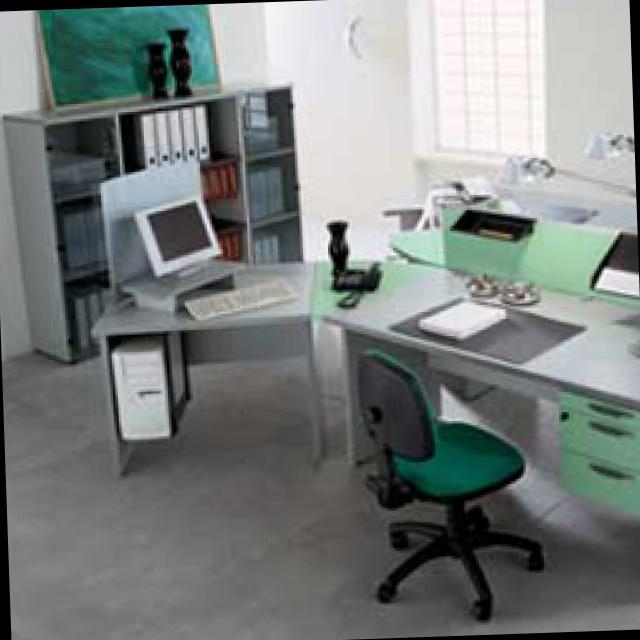2001: (424, 0, 549, 154)
book case: (423, 295, 507, 337)
bookcase crop: (10, 76, 305, 359)
books crop: (134, 104, 212, 171), (71, 283, 114, 346), (64, 205, 108, 266), (247, 162, 289, 220), (257, 227, 283, 260)
box contants: (452, 205, 539, 238)
chair -occluded-: (359, 348, 551, 615)
computer crop: (113, 335, 190, 434)
desk calendar: (325, 265, 640, 513), (98, 258, 332, 472), (381, 194, 601, 225)
desk occluded: (390, 290, 593, 363)
file cabinet: (591, 229, 639, 298)
keyboard crop: (187, 274, 299, 322)
lamp crop: (497, 148, 636, 199), (582, 128, 634, 158)
monitor crop: (136, 192, 225, 275)
painting crop: (32, 4, 224, 109)
phone charger: (448, 174, 506, 202), (331, 258, 383, 289)
shelf crop: (392, 208, 638, 307)
vase -X: (167, 22, 199, 92), (145, 38, 176, 101), (329, 214, 352, 270)
